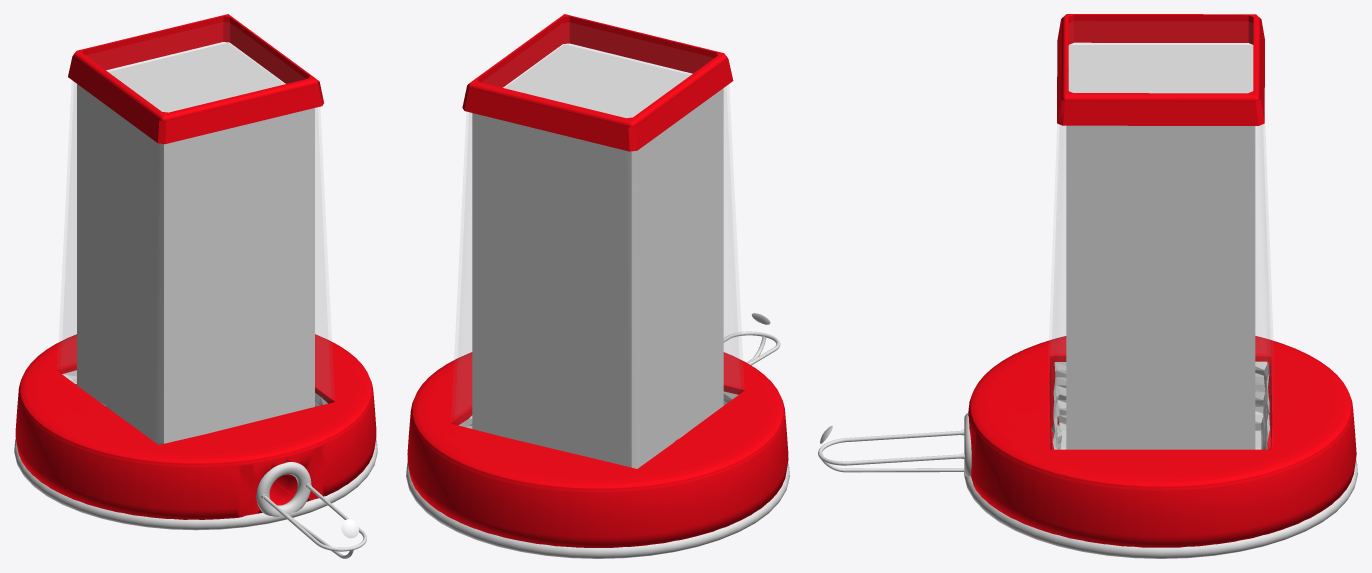
Rendered from lottery-untextured.glb.
3 views of the same model, side by side, from view 1: azimuth 30°, elevation 25°; view 2: azimuth 150°, elevation 25°; view 3: azimuth 270°, elevation 25° (orthographic). The views are drawn at different scales.
Parts seen in each view (by area): view 1: BounceZone, Socle, TopJoin, Torus.001, Donut, Rail; view 2: BounceZone, Socle, TopJoin, Torus.001, Rail; view 3: BounceZone, Socle, TopJoin, Torus.001, Inside, Rail.
Part boxes in pixels (bbox=[...]): BounceZone: bbox=[77, 42, 314, 444]; Socle: bbox=[15, 334, 376, 519]; TopJoin: bbox=[68, 14, 323, 144]; Torus.001: bbox=[14, 438, 377, 530]; Donut: bbox=[256, 462, 311, 516]; Rail: bbox=[261, 483, 366, 558]; BounceZone: bbox=[472, 44, 723, 468]; Socle: bbox=[407, 352, 788, 547]; TopJoin: bbox=[462, 14, 733, 151]; Torus.001: bbox=[406, 462, 789, 558]; Rail: bbox=[723, 331, 780, 365]; BounceZone: bbox=[1066, 45, 1255, 449]; Socle: bbox=[968, 336, 1356, 547]; TopJoin: bbox=[1057, 14, 1264, 125]; Torus.001: bbox=[964, 459, 1357, 558]; Inside: bbox=[1051, 361, 1269, 449]; Rail: bbox=[818, 429, 964, 472].
Bounding box in the file's own units: 3.49 × 4.16 × 4.78.
Materials: 4 (1 with a texture image).
